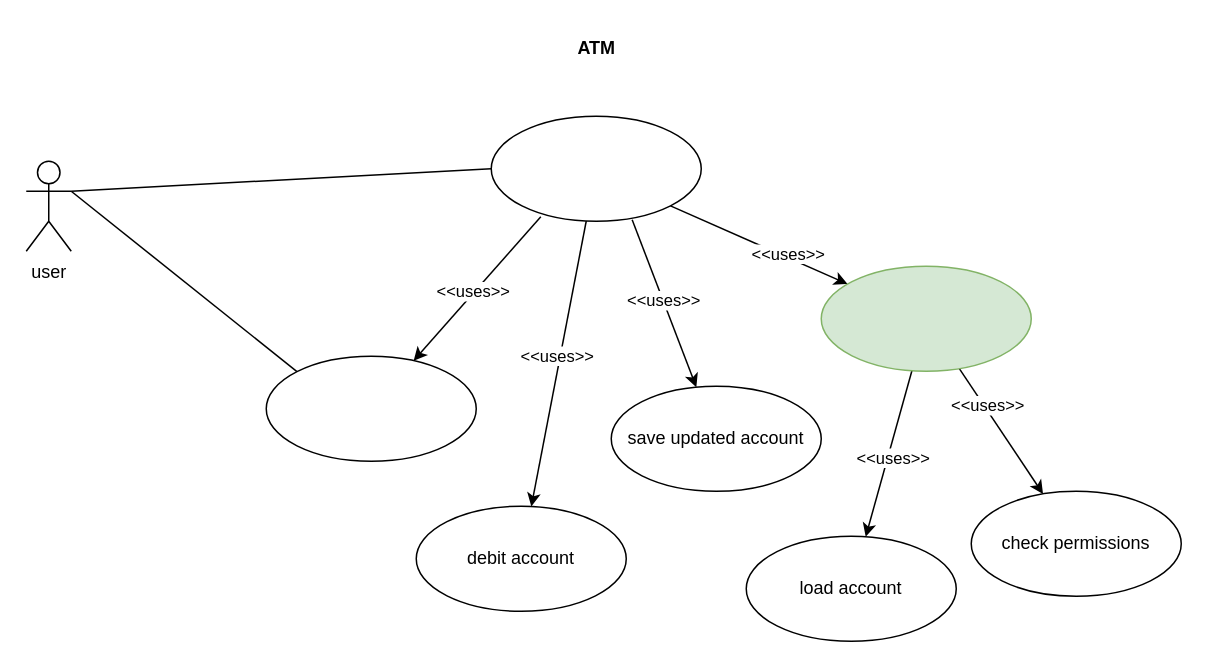
Image size: 1208x668. Some labels were removed from this diagram. Here are the shapes that lost their labels. From the top down, the box of each, then its label:
(490, 115, 701, 221): withdraw cash
(820, 265, 1031, 371): verify account
(265, 355, 476, 461): distribute cash
